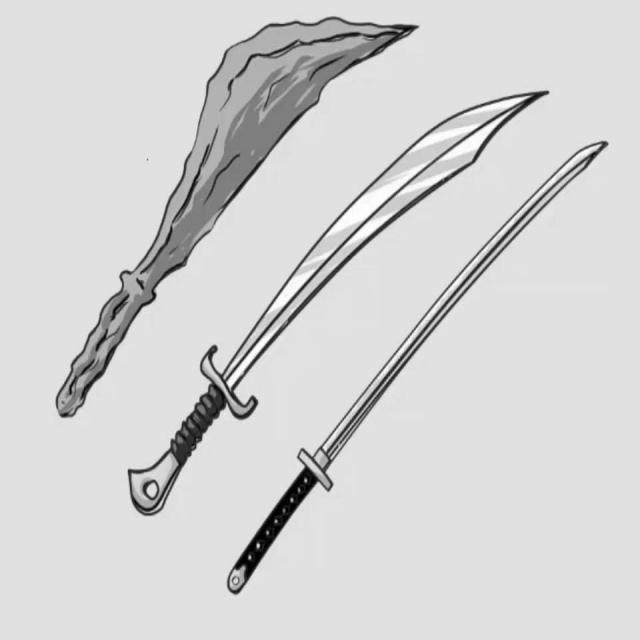Knife: (246, 95, 630, 593), (143, 79, 588, 501), (41, 26, 425, 437)
